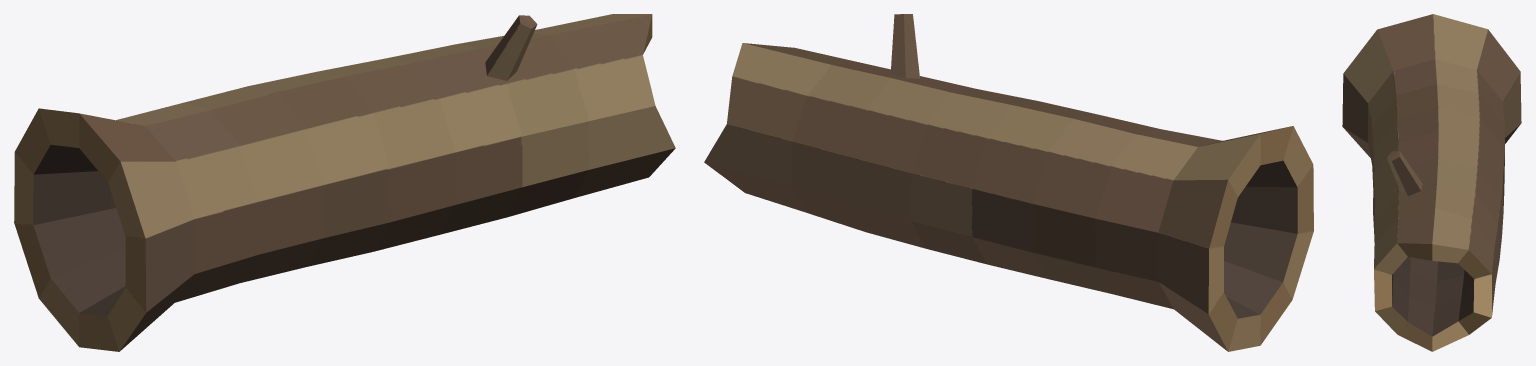
The model's file is SM_Log_Hollow.fbx.
3 views of the same model, side by side, from view 1: azimuth 30°, elevation 25°; view 2: azimuth 150°, elevation 25°; view 3: azimuth 270°, elevation 25° (orthographic). The views are drawn at different scales.
Parts seen in each view (by area): view 1: SM_Log_Hollow_LOD0; view 2: SM_Log_Hollow_LOD0; view 3: SM_Log_Hollow_LOD0.
Boxes of the visible parts, left/top/right/bottom form: SM_Log_Hollow_LOD0: left=14, top=14, right=675, bottom=351; SM_Log_Hollow_LOD0: left=704, top=14, right=1313, bottom=351; SM_Log_Hollow_LOD0: left=1342, top=14, right=1521, bottom=351.
Size of what is drawn, in the model's own units: 2.78 by 1.14 by 1.04.
